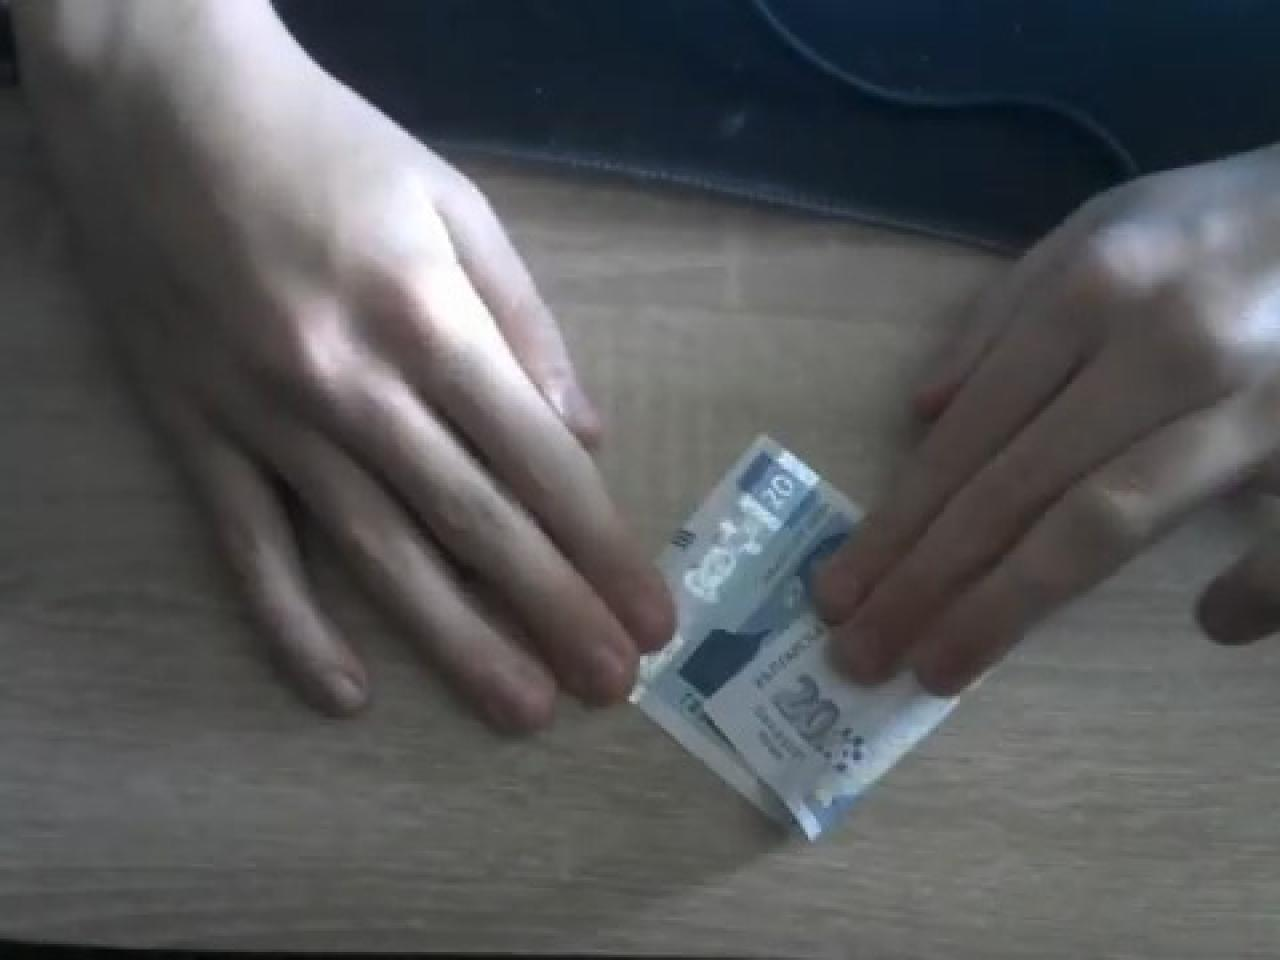20leva: (627, 430, 971, 843)
